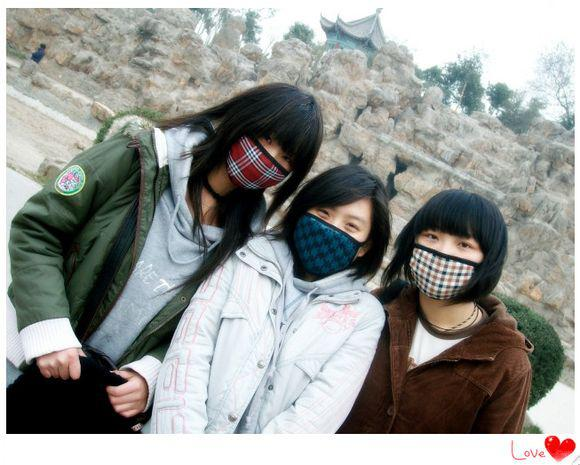OK: (416, 227, 483, 303), (300, 205, 367, 272), (232, 122, 298, 188)
